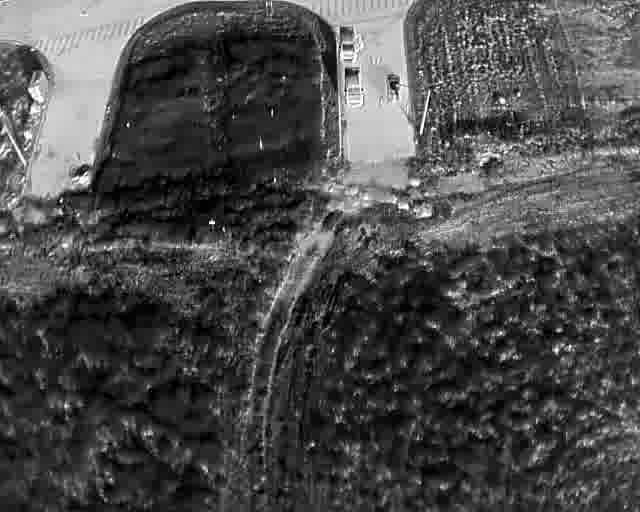car: (344, 67, 363, 107), (338, 24, 356, 63), (386, 72, 400, 103)
person: (375, 95, 380, 105), (380, 95, 385, 105), (357, 31, 361, 42), (370, 55, 374, 65), (360, 38, 364, 48), (405, 103, 409, 113), (377, 53, 381, 63)
